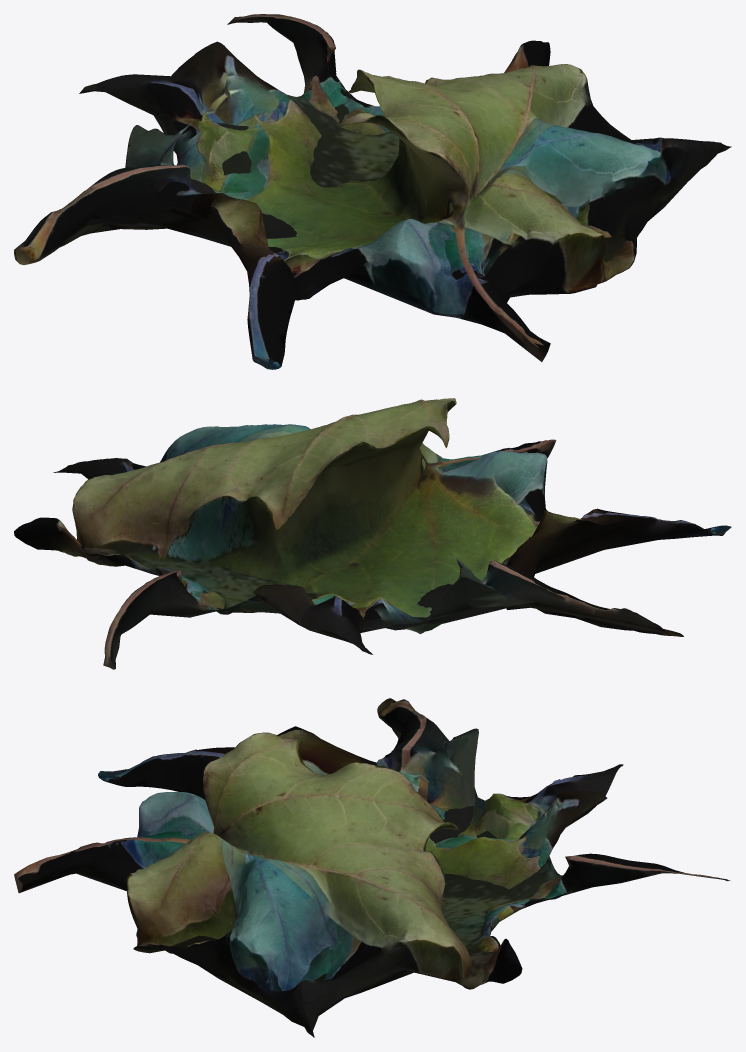
Rendered from leaf-15.glb.
3 views of the same model, one above another, from view 1: azimuth 30°, elevation 25°; view 2: azimuth 150°, elevation 25°; view 3: azimuth 270°, elevation 25° (orthographic). The views are drawn at different scales.
Parts seen in each view (by area): view 1: Mesh; view 2: Mesh; view 3: Mesh.
Boxes of the visible parts, x1,y1,x2,y2 form: Mesh: (14, 14, 731, 369); Mesh: (14, 398, 731, 669); Mesh: (14, 698, 730, 1037).
Bounding box in the file's own units: 0.3113 × 0.0698 × 0.3037.
Materials: 1 (1 with a texture image).
